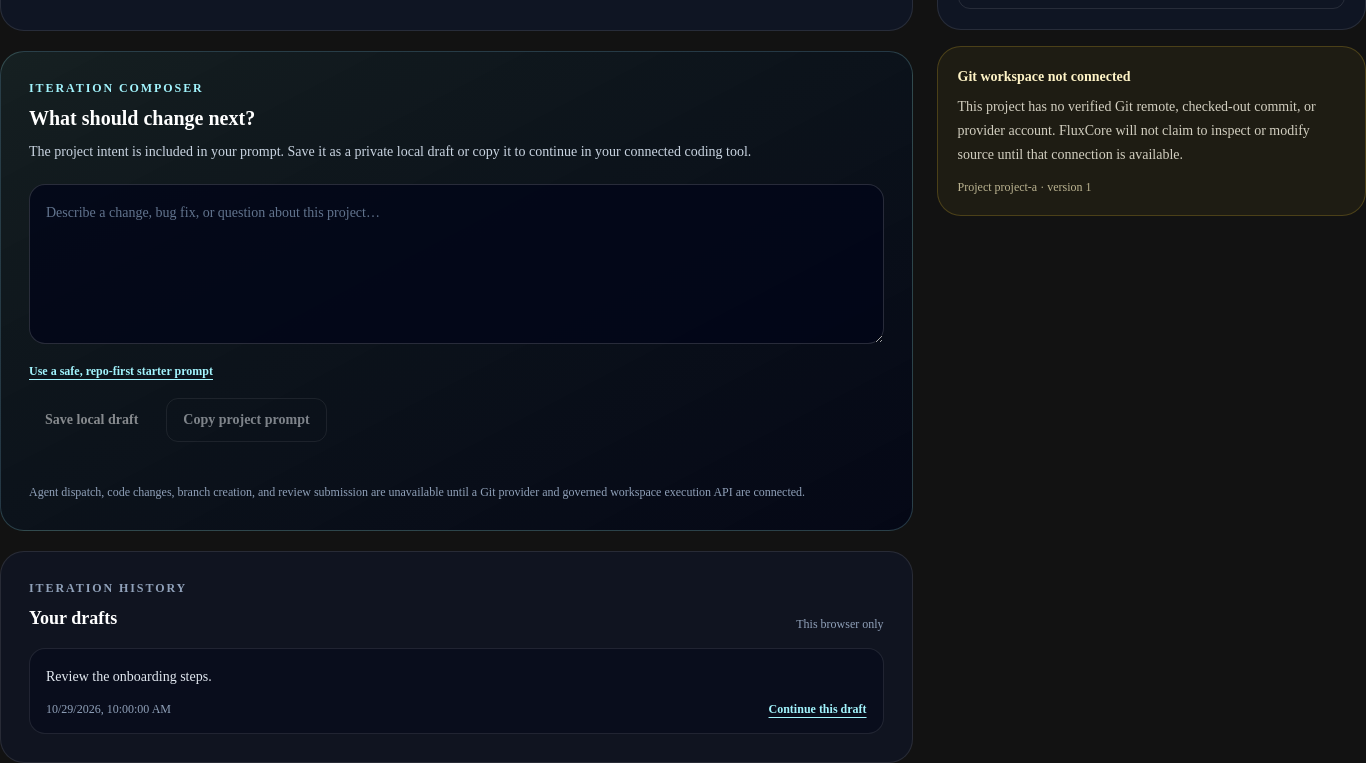
Test: loads a saved browser draft back into the composer
(page scrolled)
Click the button "Continue this draft": coordinates (818, 709) left=768, top=701, right=866, bottom=717
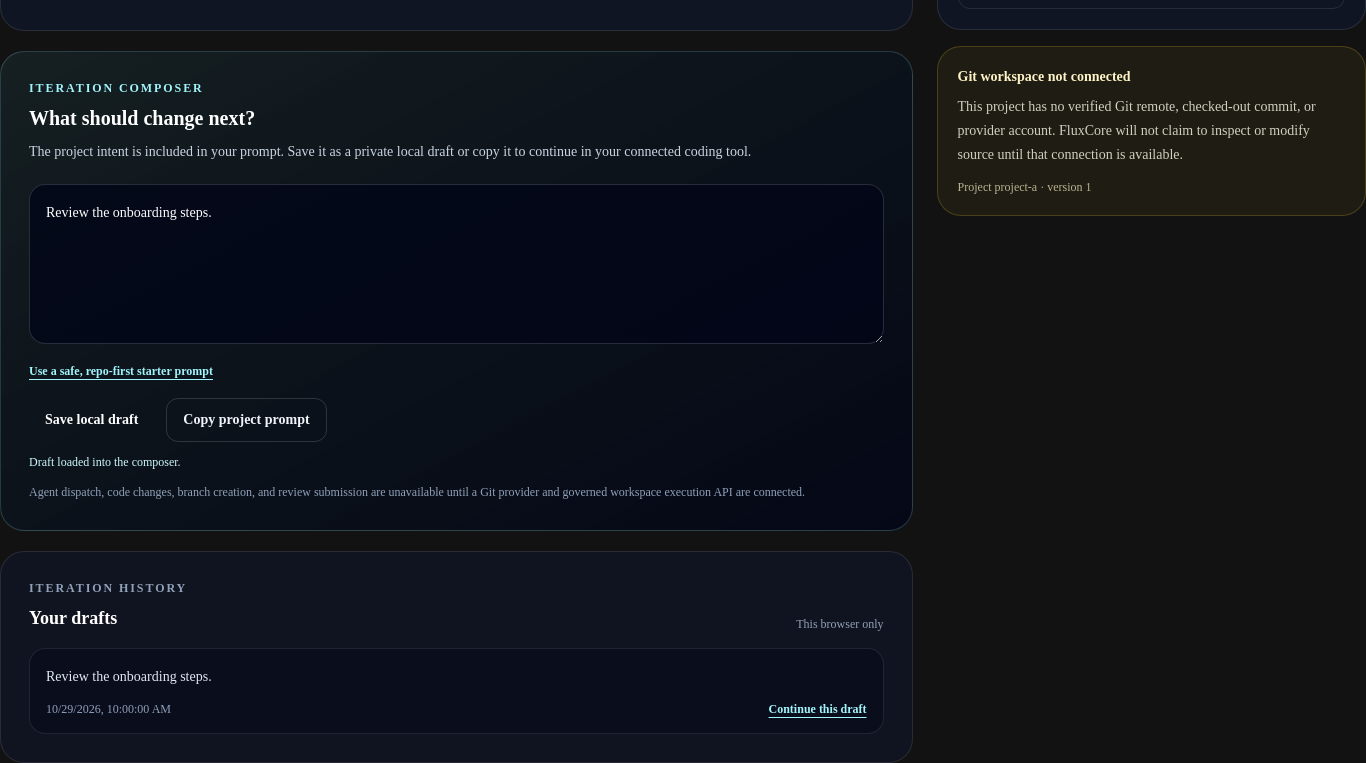
Expected: the text box named "Describe the next iteration" holds "Review the onboarding steps.", left=29, top=184, right=884, bottom=344
